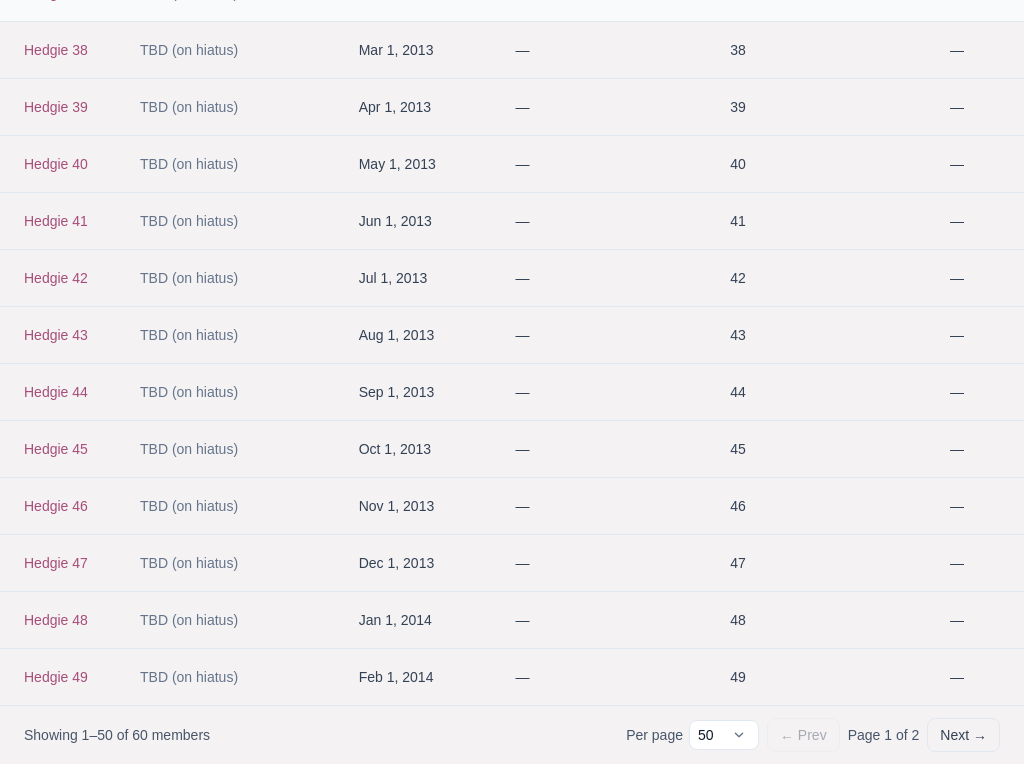
Test: client-side paging on HedgieversariesTable › shows 50 rows per page and pages through the rest
The image size is (1024, 764).
(page scrolled)
Click the button "Next →". click: (964, 735)
box: [927, 718, 1000, 752]
(page scrolled)
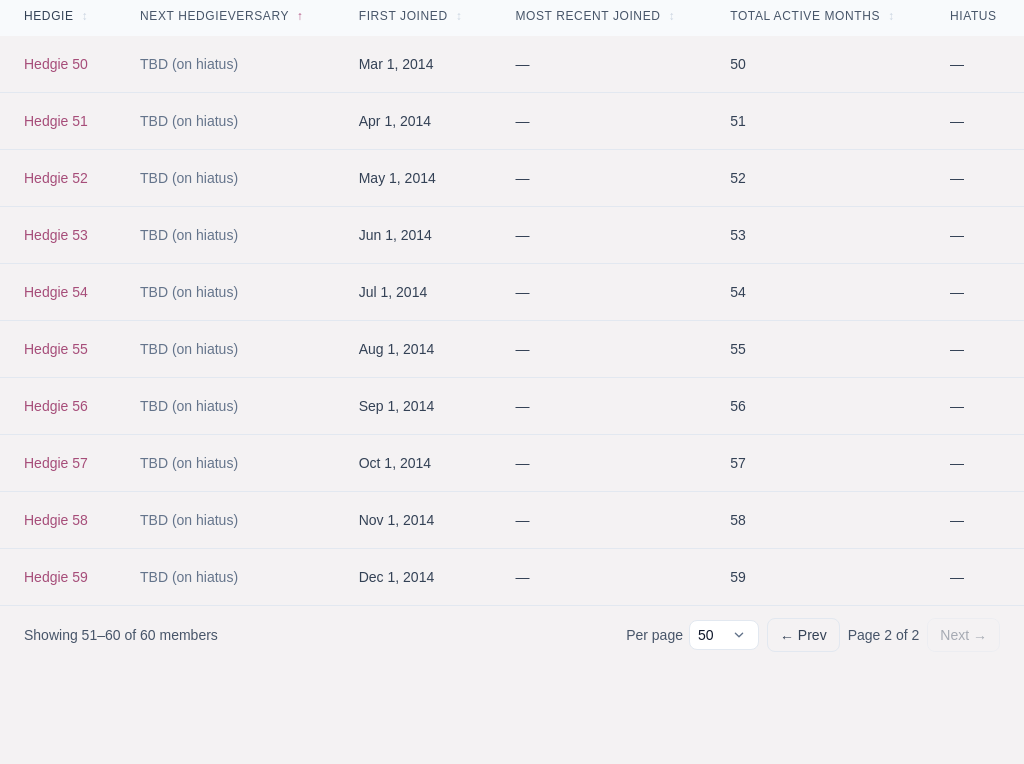
Expected: the number of links is 10
Expected: the text "Showing 51–60 of 60 members" is shown, [24, 625, 218, 645]
